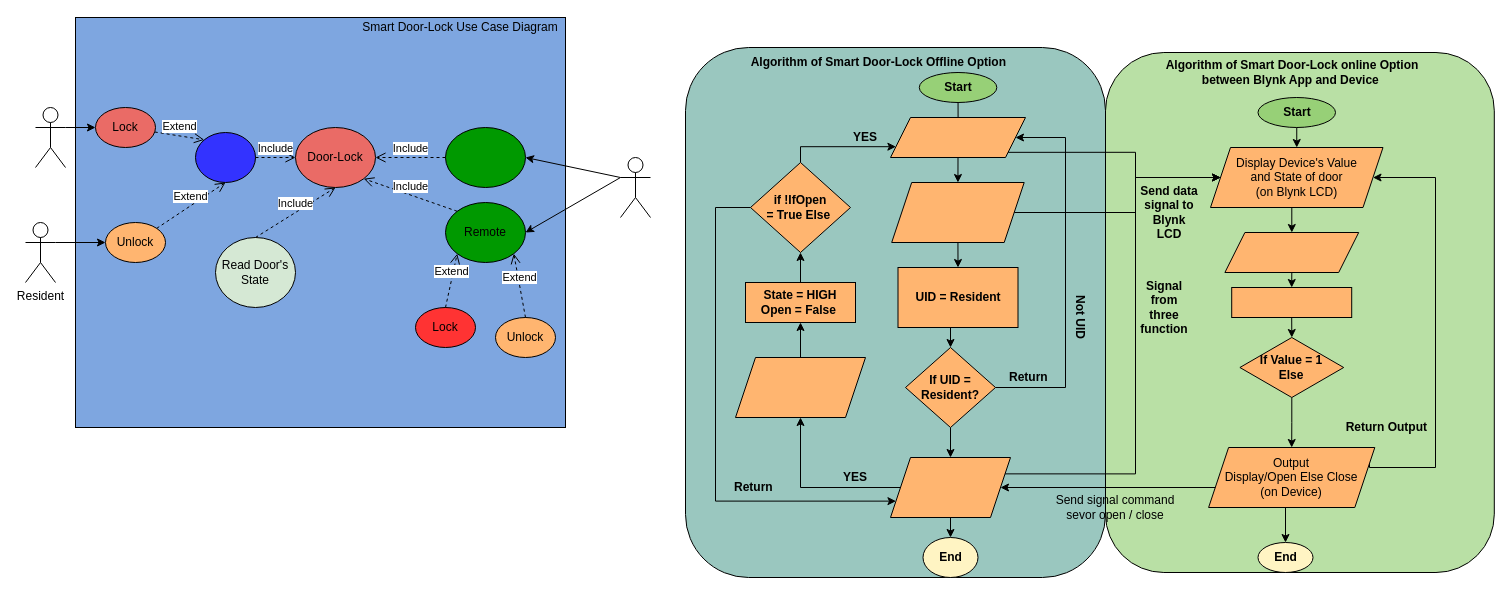
The diagram is 1512 pixels wide and 595 high, and some of its shapes have lost their labels. Each missing label, with the centre of its shape:
"House Owner" belongs at [635,187].
"Locked-Door with display State" belongs at [958,137].
"Monitor" belongs at [485,157].
"Open Door with display State" belongs at [950,487].
"Read Door-State (on Magnetic Reed Switch sensor)" belongs at [800,387].
"Read ID" belongs at [225,157].
"Read Input Value (On Blynk Button)" belongs at [1291,252].
"Read UID Tagger (on RFID sensor)" belongs at [957,212].
"Stranger" belongs at [50,137].
"Value = 1" belongs at [1291,302].
